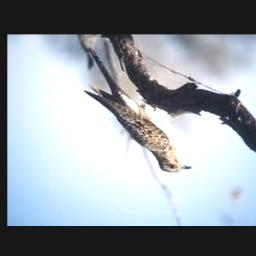Cuckoo: (84, 49, 191, 173)
